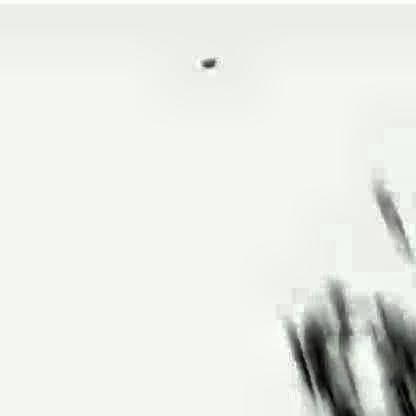golfball: (198, 54, 216, 67)
